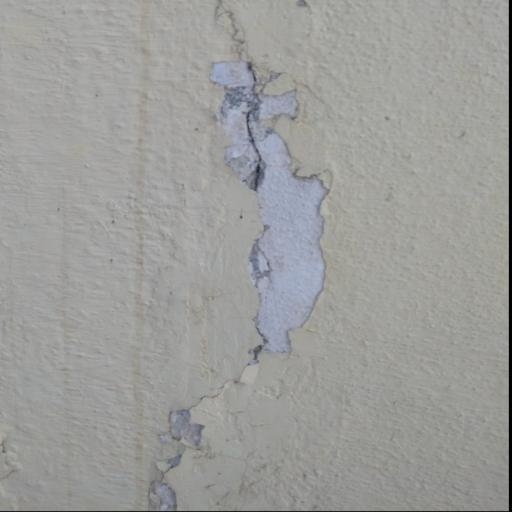peeling: (131, 39, 342, 512)
